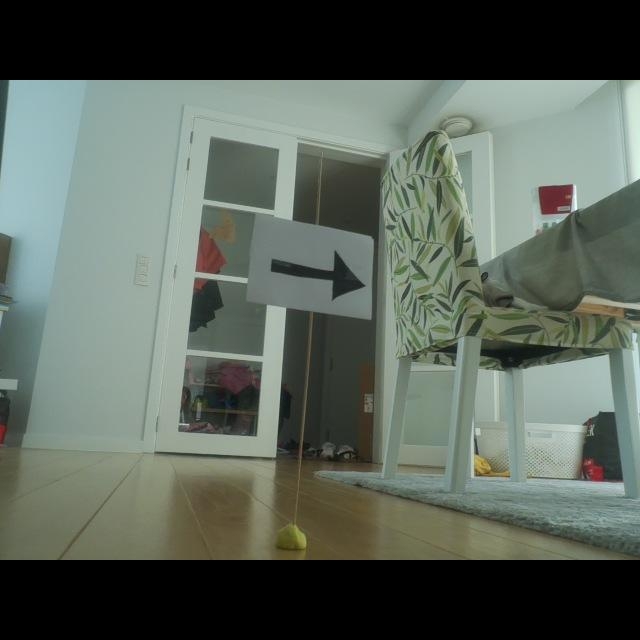jobbra_nyil: (272, 251, 364, 299)
